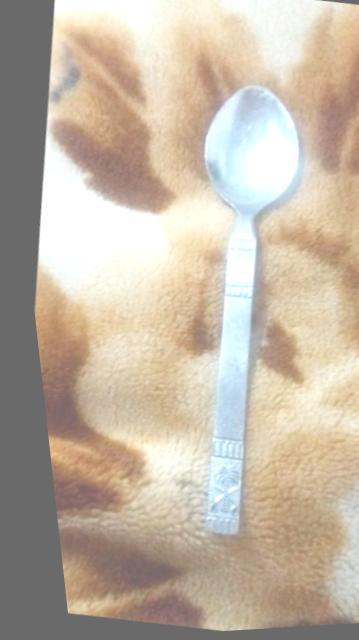Spoon: (203, 86, 296, 534)
